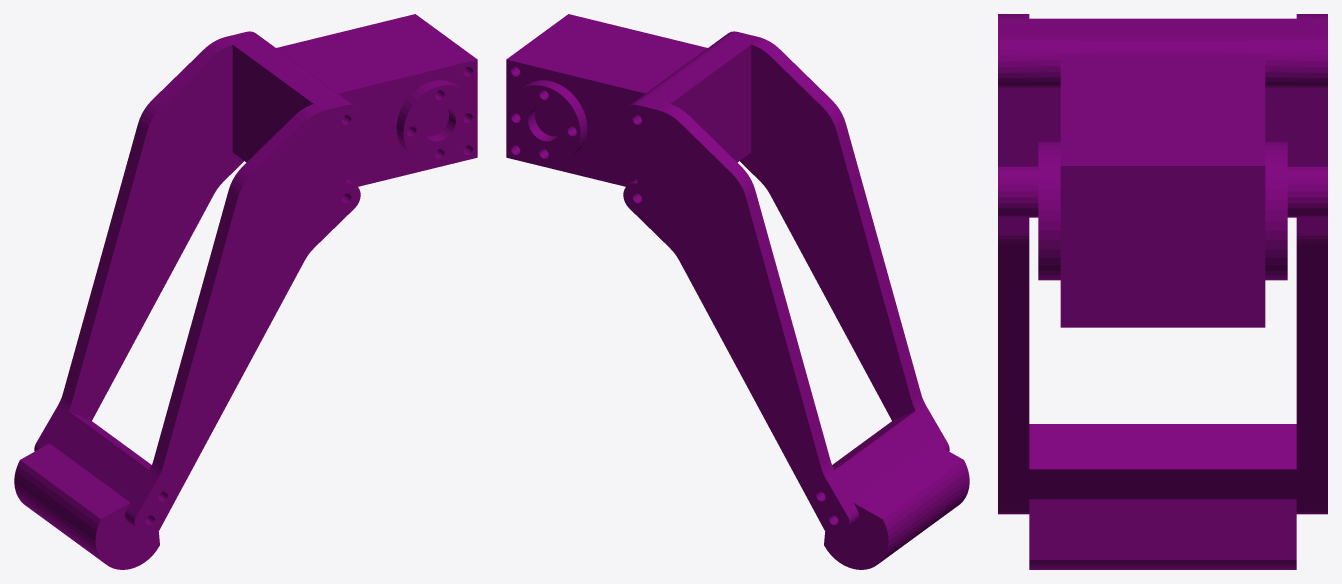
Rendered from hexy_urdf_v2_6_dae_Tibia_6_vis_1.dae.
The picture shows the model from 3 angles, left to right: view 1: azimuth 30°, elevation 25°; view 2: azimuth 150°, elevation 25°; view 3: azimuth 270°, elevation 25°; orthographic projection. The views are drawn at different scales.
Parts seen in each view (by area): view 1: node; view 2: node; view 3: node.
Boxes of the visible parts, x1,y1,x2,y2 form: node: (14,14,477,569); node: (506,14,969,569); node: (998,14,1327,569).
Bounding box in the file's own units: 0.4178 × 0.4285 × 0.185.
